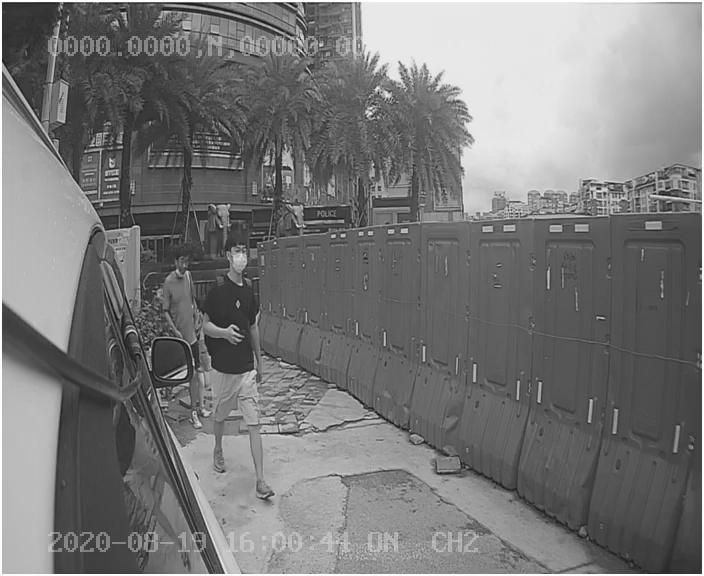person: (195, 242, 295, 502)
